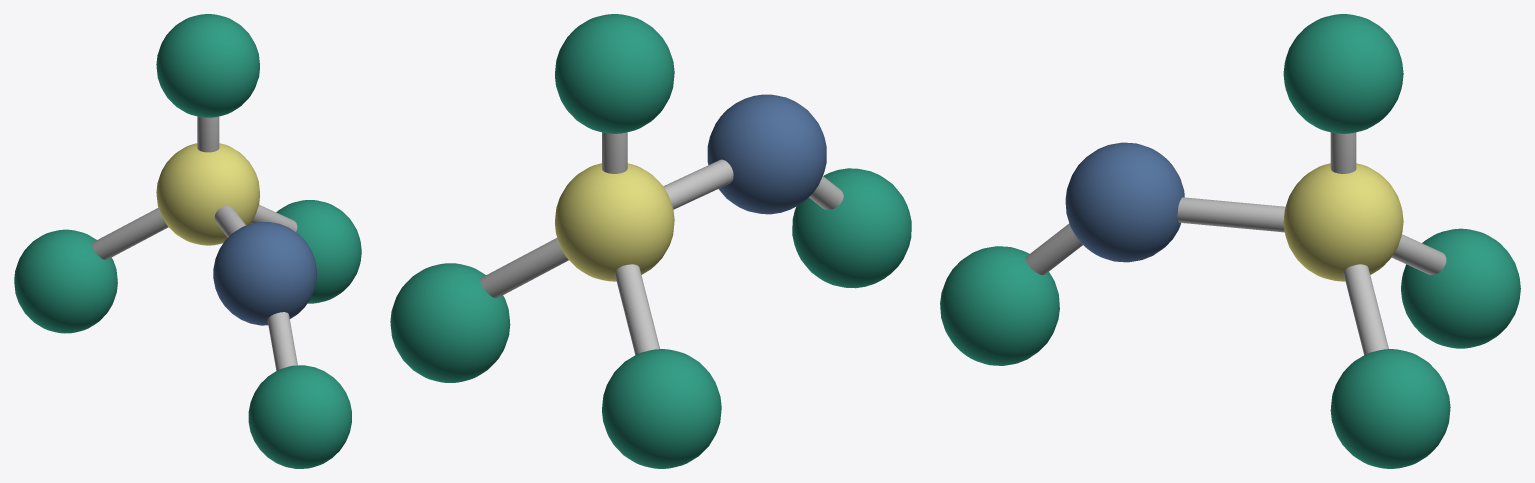
The model's file is metanol.gltf.
The picture shows the model from 3 angles, left to right: view 1: azimuth 30°, elevation 25°; view 2: azimuth 150°, elevation 25°; view 3: azimuth 270°, elevation 25°; orthographic projection. The views are drawn at different scales.
Parts seen in each view (by area): view 1: Sphere.005, Sphere.002, Sphere, Cylinder.002, Cylinder.005, Cylinder, Cylinder.003, Cylinder.004; view 2: Sphere.005, Sphere.002, Sphere, Cylinder.002, Cylinder.004, Cylinder.003, Cylinder, Cylinder.005; view 3: Sphere.005, Sphere.002, Sphere, Cylinder.003, Cylinder.004, Cylinder.005, Cylinder.002, Cylinder.
Boxes of the visible parts, x1=… form: Sphere.005: x1=14, y1=14, x2=361, y2=468; Sphere.002: x1=213, y1=222, x2=316, y2=325; Sphere: x1=156, y1=143, x2=259, y2=245; Cylinder.002: x1=92, y1=207, x2=168, y2=259; Cylinder.005: x1=267, y1=312, x2=297, y2=370; Cylinder: x1=197, y1=116, x2=219, y2=152; Cylinder.003: x1=214, y1=206, x2=245, y2=237; Cylinder.004: x1=250, y1=204, x2=297, y2=231; Sphere.005: x1=390, y1=14, x2=911, y2=468; Sphere.002: x1=707, y1=94, x2=826, y2=214; Sphere: x1=555, y1=163, x2=674, y2=281; Cylinder.002: x1=614, y1=264, x2=659, y2=354; Cylinder.004: x1=480, y1=238, x2=568, y2=298; Cylinder.003: x1=663, y1=159, x2=733, y2=209; Cylinder: x1=602, y1=132, x2=627, y2=173; Cylinder.005: x1=809, y1=176, x2=843, y2=209; Sphere.005: x1=940, y1=14, x2=1520, y2=468; Sphere.002: x1=1065, y1=142, x2=1184, y2=262; Sphere: x1=1283, y1=163, x2=1403, y2=281; Cylinder.003: x1=1177, y1=197, x2=1285, y2=232; Cylinder.004: x1=1343, y1=264, x2=1388, y2=354; Cylinder.005: x1=1025, y1=223, x2=1082, y2=274; Cylinder.002: x1=1391, y1=234, x2=1446, y2=274; Cylinder: x1=1330, y1=132, x2=1356, y2=173.
Bounding box in the file's own units: 6.74 × 6.89 × 9.67.
